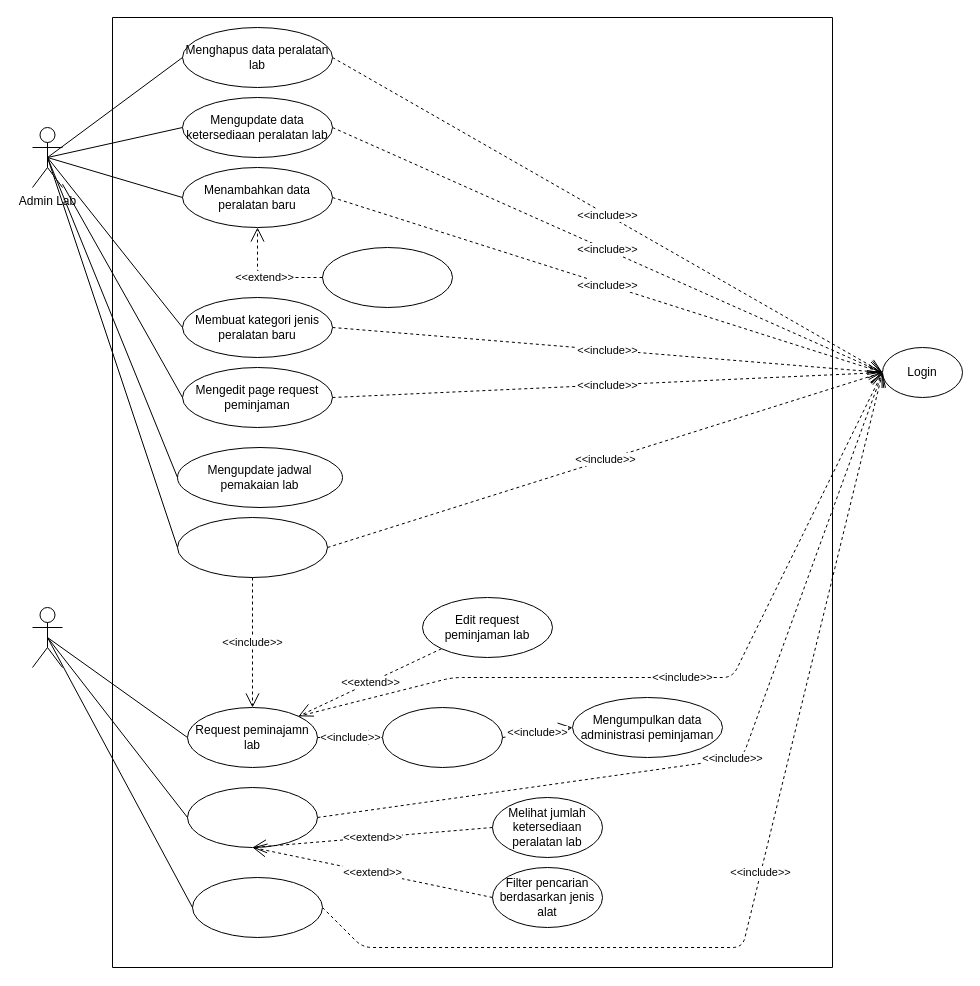
This 980x986 diagram has some shape labels left out. Here are the shapes that lost their labels. From the top down, the centre of each, then its label:
point 387,277: Mengkategorikan peralatan lab
point 252,547: Verifikasi request peminjaman lab
point 47,637: Mahasiswa
point 442,737: Mengisi form di page peminjaman
point 252,817: Mencari informasi peralatan lab
point 257,907: Melihat jadwal pemakaian lab
